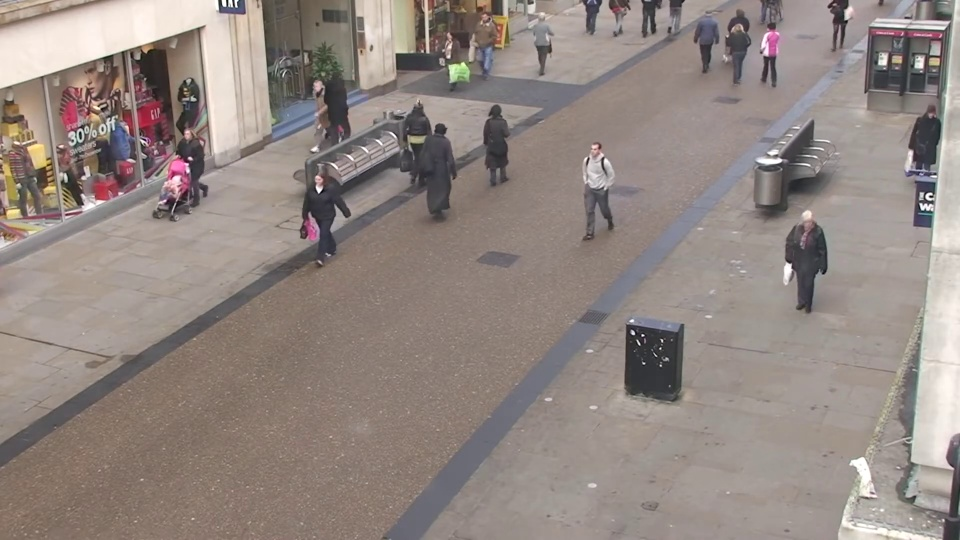pedestrian: (781, 211, 826, 332), (904, 103, 950, 200), (298, 168, 338, 277), (166, 125, 205, 221), (573, 138, 606, 241), (431, 116, 465, 212), (409, 95, 441, 185), (485, 100, 516, 191), (297, 79, 328, 163), (330, 66, 360, 147), (756, 17, 783, 87), (723, 21, 749, 92), (435, 29, 460, 100), (725, 5, 750, 72), (471, 11, 495, 78), (695, 1, 719, 67), (532, 8, 555, 74), (474, 1, 497, 65)
